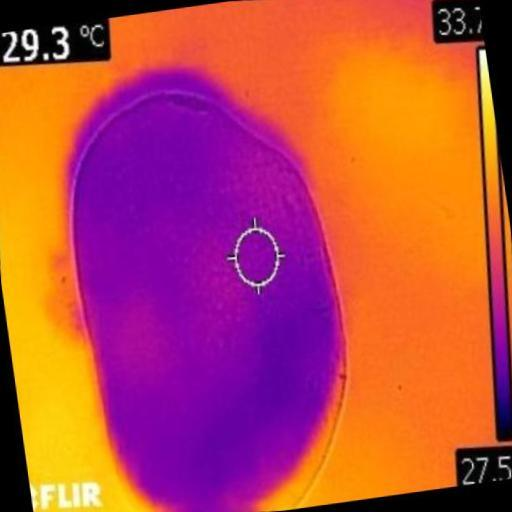alphanso: (69, 91, 344, 511)
